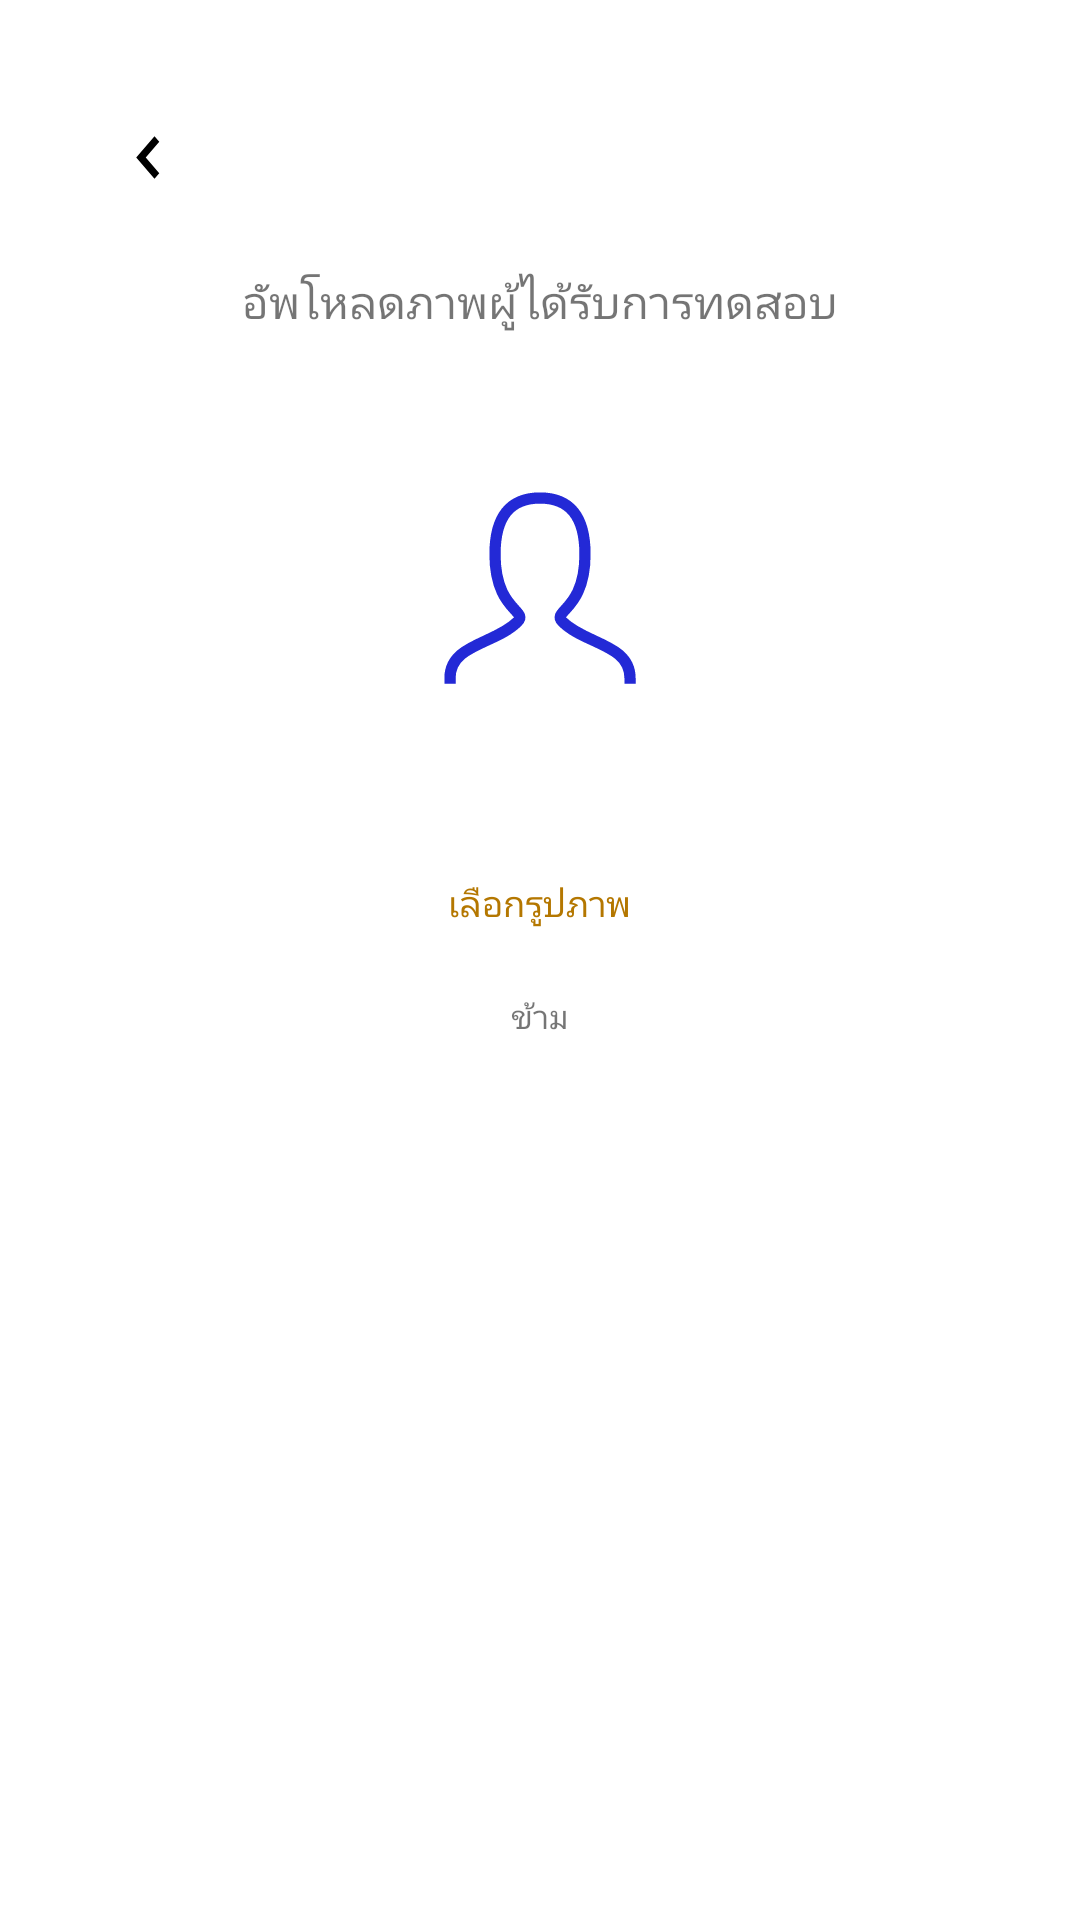

Where to tap for icons on this 1080×1920 app screen, as (x,y):
back: (147,157)
profile: (540,588)
